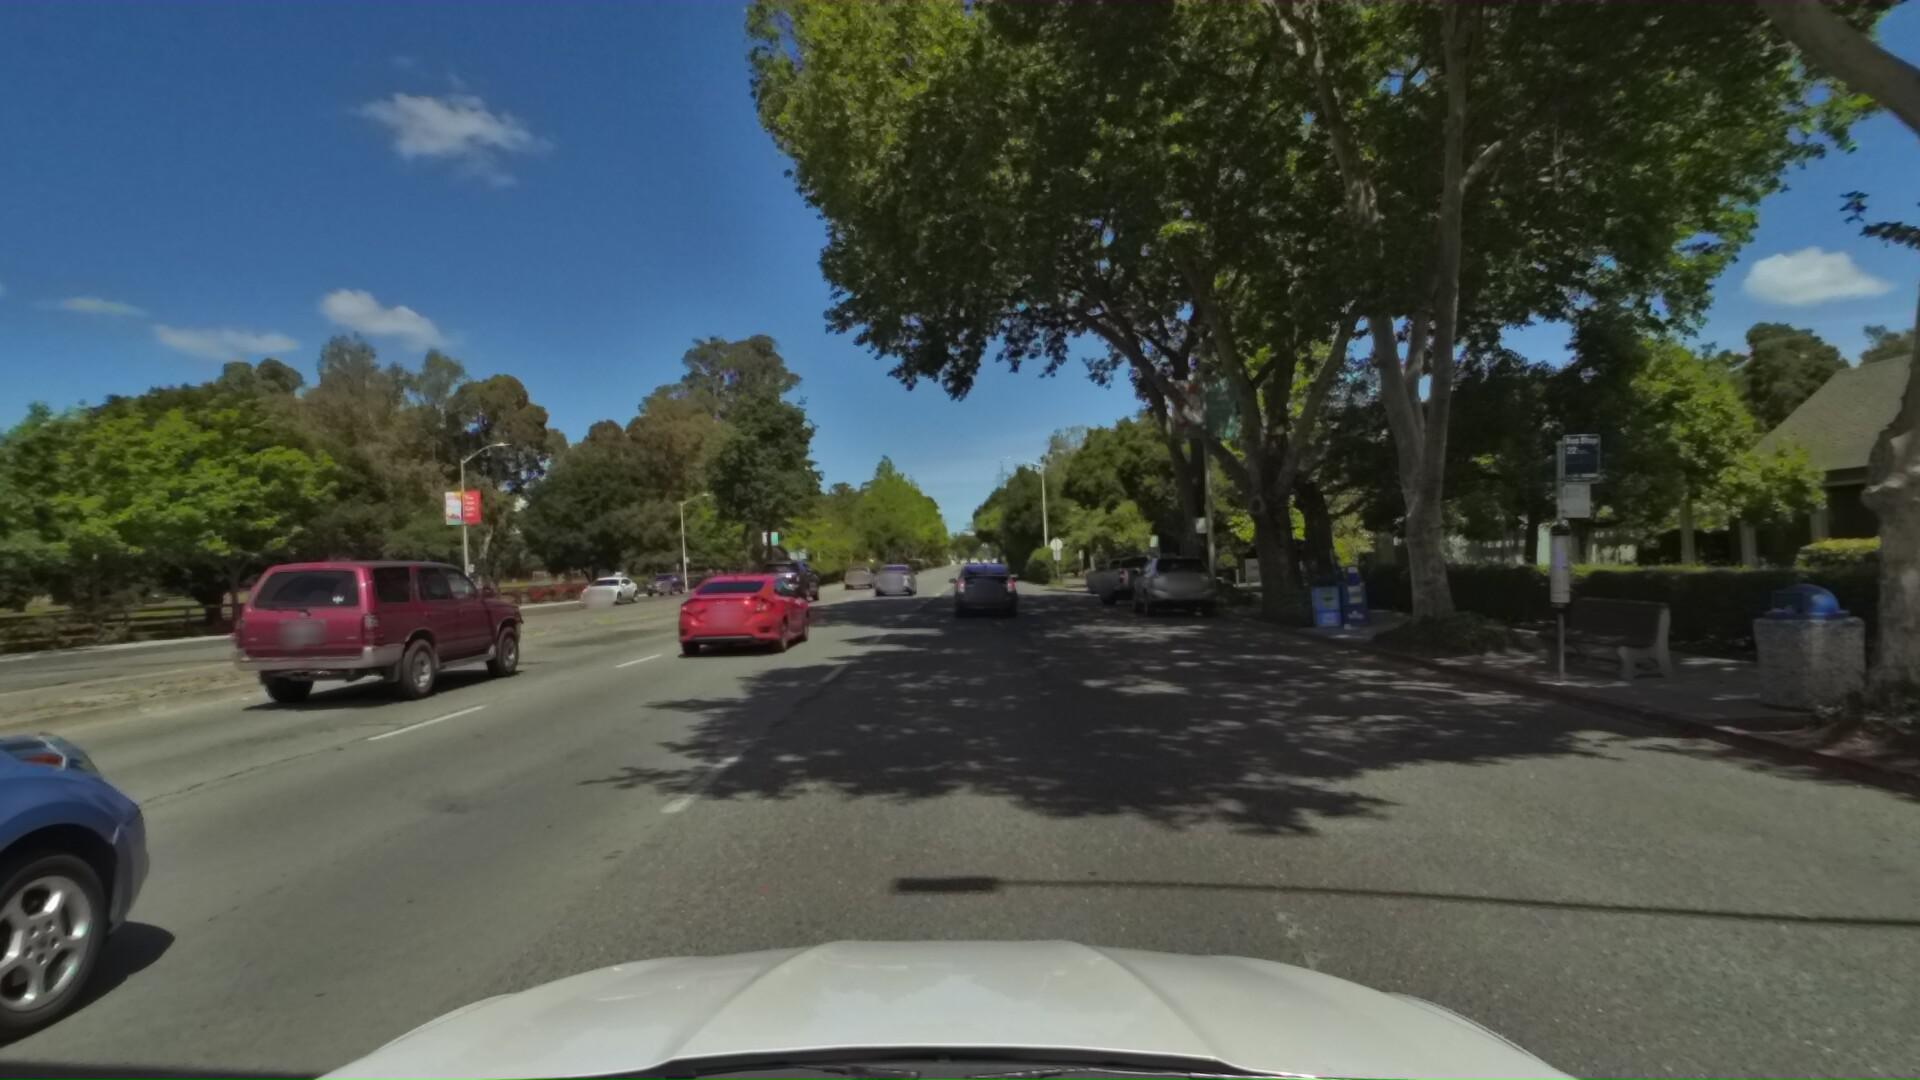car: (223, 555, 541, 720), (203, 559, 411, 657), (666, 562, 814, 659), (1076, 543, 1229, 609), (1124, 547, 1224, 621), (943, 559, 1025, 621), (753, 553, 823, 604), (563, 570, 636, 605), (1098, 551, 1150, 601), (869, 558, 920, 596), (636, 574, 680, 599), (839, 560, 878, 588)
